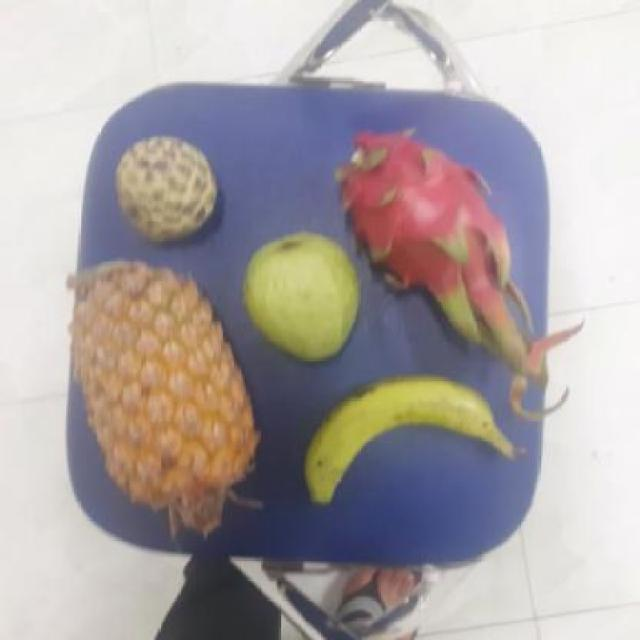dragon fruit: (339, 130, 513, 298)
guava: (242, 231, 367, 357)
pineapple: (72, 256, 256, 524)
sugar apple: (115, 140, 220, 243)
